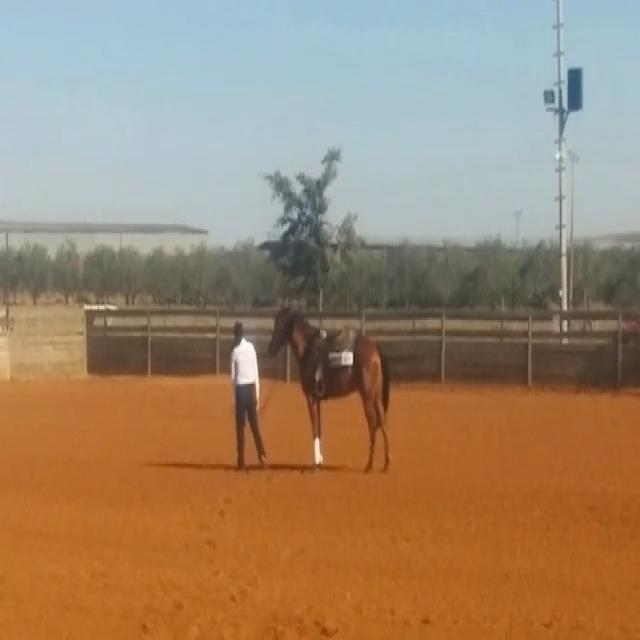horse: (265, 298, 394, 474)
